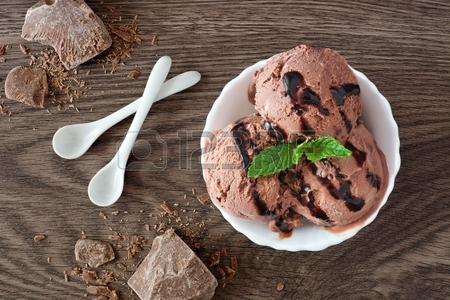ice-cream: (248, 44, 361, 140), (204, 115, 293, 223), (293, 129, 383, 226)
